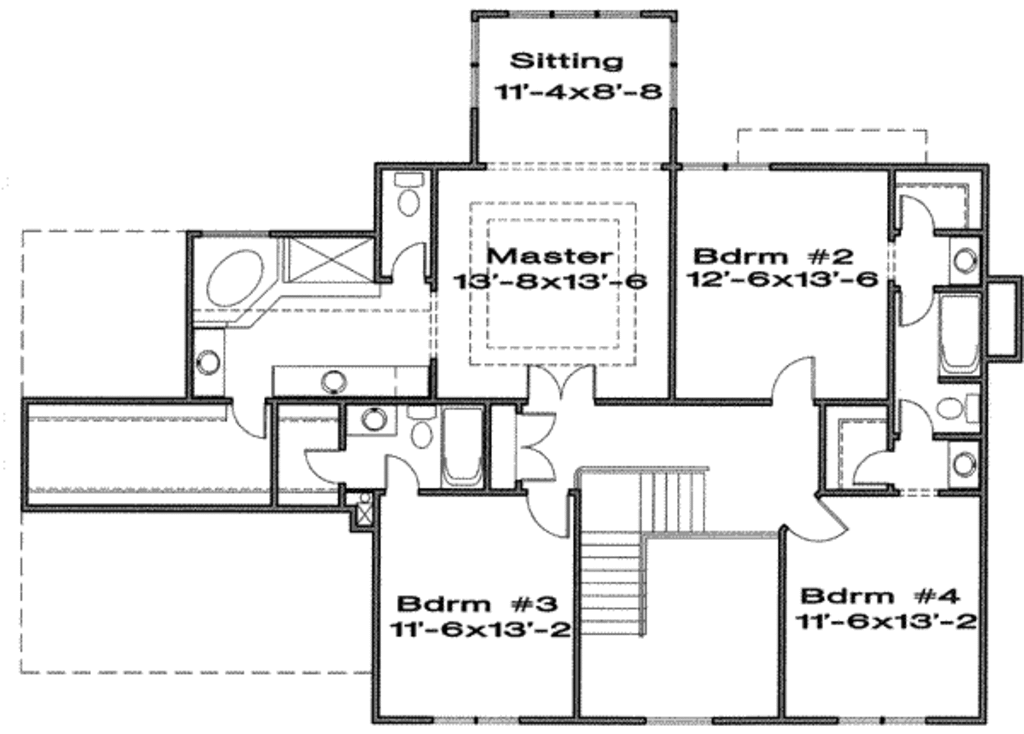door: (509, 408, 559, 480), (787, 490, 849, 546), (522, 363, 600, 402), (520, 487, 571, 539), (773, 351, 819, 404), (889, 394, 935, 443), (302, 446, 351, 492), (848, 450, 895, 493), (380, 451, 422, 499), (230, 392, 268, 439), (390, 240, 428, 283), (896, 282, 931, 328), (898, 192, 934, 231)
large_sink: (390, 166, 428, 220), (937, 387, 981, 432), (405, 394, 438, 453)
small_sink: (267, 366, 395, 400), (188, 326, 230, 401), (340, 402, 408, 439), (941, 443, 979, 490), (946, 234, 981, 284)
stairs: (573, 464, 708, 638)
tub: (188, 233, 284, 326), (438, 408, 487, 492), (935, 294, 982, 380)
windows: (464, 17, 484, 112), (679, 158, 771, 177)
